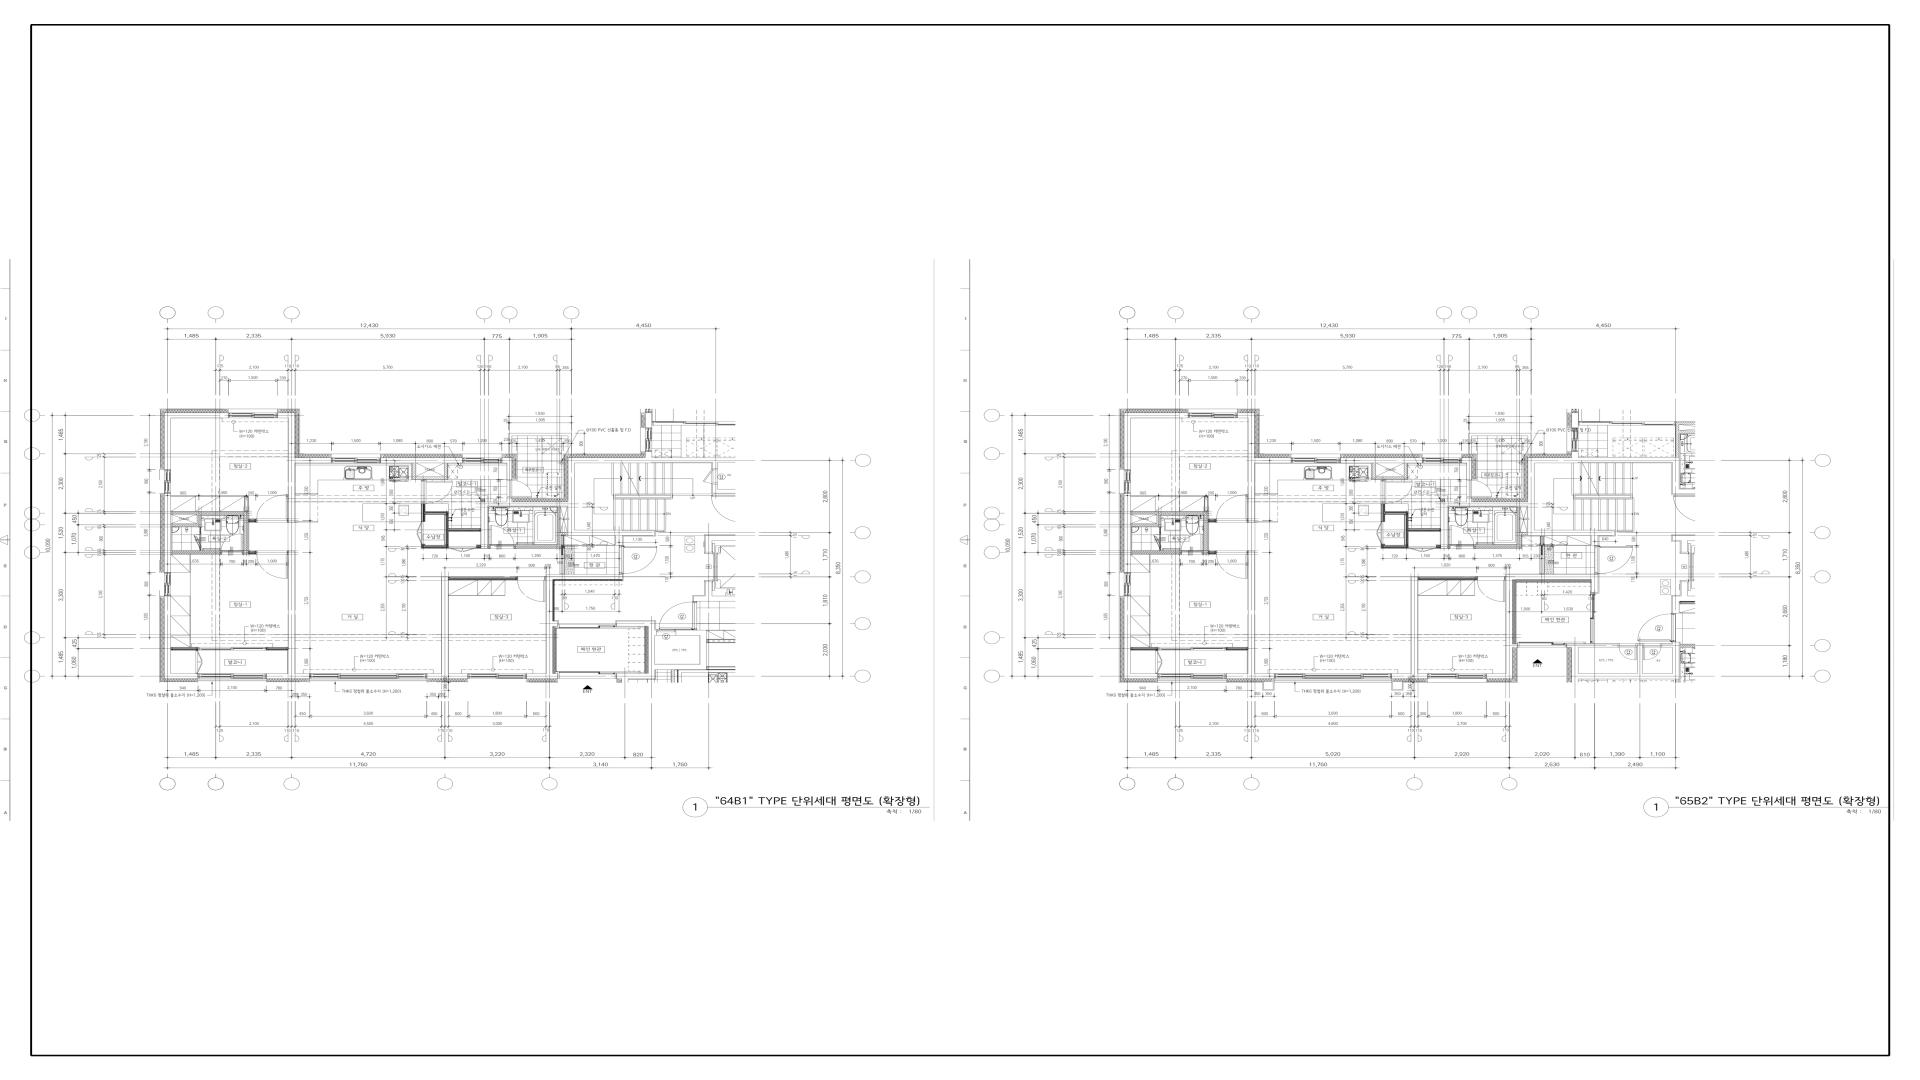door: (1638, 613, 1676, 642), (1594, 546, 1633, 575), (659, 601, 698, 630), (618, 546, 657, 574), (256, 495, 289, 522), (256, 551, 289, 579), (1381, 480, 1412, 504), (421, 480, 452, 504), (1477, 576, 1506, 601), (1218, 497, 1247, 522), (1218, 551, 1247, 576), (517, 576, 546, 601), (1448, 526, 1476, 549), (489, 526, 516, 549), (558, 671, 617, 679), (220, 534, 244, 554), (1180, 534, 1204, 554), (1466, 480, 1491, 498), (508, 480, 531, 498), (1518, 642, 1585, 647), (1618, 644, 1638, 661), (1643, 644, 1662, 661), (1590, 592, 1596, 644), (558, 625, 617, 629), (703, 468, 717, 484), (1539, 535, 1544, 575), (560, 535, 566, 575), (195, 650, 203, 674), (1155, 650, 1162, 674), (1377, 521, 1383, 545), (417, 521, 423, 545), (1408, 547, 1436, 553), (448, 547, 476, 553), (657, 629, 676, 636), (194, 534, 202, 549), (1154, 534, 1160, 549)
wall: (1124, 413, 1188, 469), (165, 413, 228, 469), (1124, 596, 1158, 679), (164, 596, 198, 679), (649, 636, 707, 670), (617, 621, 657, 665), (575, 451, 713, 463), (1535, 451, 1672, 463), (1468, 433, 1531, 454), (509, 433, 571, 454), (1247, 551, 1255, 674), (287, 551, 295, 674), (1672, 458, 1696, 493), (694, 582, 736, 601), (1247, 418, 1255, 522), (1672, 582, 1696, 613), (289, 418, 295, 522), (1411, 576, 1418, 674), (442, 576, 448, 674), (164, 493, 171, 572), (1506, 580, 1513, 674), (546, 580, 553, 674), (1578, 674, 1679, 679), (1124, 493, 1130, 572), (705, 535, 736, 553), (546, 574, 622, 580), (1466, 498, 1528, 506), (506, 498, 568, 506), (1528, 458, 1535, 530), (568, 458, 575, 530), (568, 530, 655, 535), (1528, 530, 1614, 535), (1506, 575, 1592, 580), (1340, 458, 1423, 463), (381, 458, 463, 463), (1518, 506, 1528, 546), (1672, 535, 1696, 553), (558, 506, 567, 546), (617, 670, 655, 679), (1441, 506, 1448, 549), (481, 506, 488, 549), (713, 458, 736, 468), (1572, 647, 1578, 683), (1226, 674, 1270, 679), (266, 674, 310, 679), (1387, 674, 1428, 679), (427, 674, 468, 679), (1672, 642, 1679, 674), (1462, 458, 1472, 480), (713, 484, 736, 493), (502, 458, 512, 480), (1130, 512, 1208, 514), (1567, 644, 1618, 647), (171, 512, 248, 514), (1255, 458, 1291, 463), (295, 458, 331, 463), (448, 576, 517, 579), (1638, 644, 1643, 674), (676, 630, 707, 636), (527, 674, 558, 679), (1418, 576, 1477, 579), (1204, 514, 1208, 554), (244, 514, 248, 554), (1486, 674, 1513, 679), (1130, 551, 1180, 554), (171, 551, 220, 554), (1476, 546, 1522, 549), (516, 546, 562, 549), (645, 413, 653, 427), (1592, 575, 1598, 592), (1441, 502, 1466, 506), (481, 502, 506, 506), (1237, 413, 1255, 418), (277, 413, 295, 418), (1572, 413, 1578, 427), (1592, 535, 1598, 546), (1130, 524, 1156, 526), (616, 535, 622, 546), (171, 524, 196, 526), (423, 543, 444, 546), (1156, 514, 1160, 526), (196, 514, 200, 526), (1381, 504, 1383, 521), (1407, 529, 1441, 530), (421, 504, 423, 521), (448, 529, 481, 530), (1404, 514, 1406, 546), (1662, 644, 1672, 647), (1373, 463, 1375, 479), (1375, 477, 1407, 479), (413, 463, 415, 479), (415, 477, 447, 479), (444, 514, 446, 546), (1404, 463, 1407, 477), (444, 463, 447, 477), (245, 497, 248, 512), (1130, 647, 1158, 649), (171, 647, 198, 649), (1226, 647, 1247, 649), (1385, 513, 1406, 514), (1383, 545, 1404, 546), (1208, 518, 1218, 521), (553, 621, 558, 626), (425, 513, 446, 514), (266, 647, 287, 649), (1513, 644, 1518, 647), (248, 518, 256, 521), (199, 526, 202, 534), (1208, 551, 1218, 553), (1381, 479, 1386, 481), (1436, 545, 1441, 547), (476, 545, 481, 547), (1159, 526, 1160, 534), (248, 551, 256, 553), (555, 671, 558, 674), (199, 549, 202, 551), (1159, 549, 1160, 551), (488, 546, 489, 549), (1448, 546, 1448, 549)
window: (1269, 674, 1387, 679), (310, 674, 427, 679), (198, 674, 266, 679), (1158, 674, 1226, 679), (468, 674, 527, 679), (1427, 674, 1486, 679), (228, 413, 278, 418), (331, 458, 381, 463), (1291, 458, 1341, 463), (1188, 413, 1237, 418), (463, 458, 502, 463), (1423, 458, 1462, 463), (164, 572, 171, 596), (164, 469, 171, 493), (645, 427, 653, 451), (1158, 647, 1226, 650), (198, 647, 266, 650), (1572, 427, 1578, 451), (1124, 572, 1130, 596), (1124, 469, 1130, 493)
